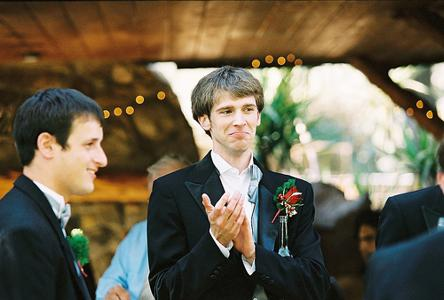person: (140, 68, 336, 300)
